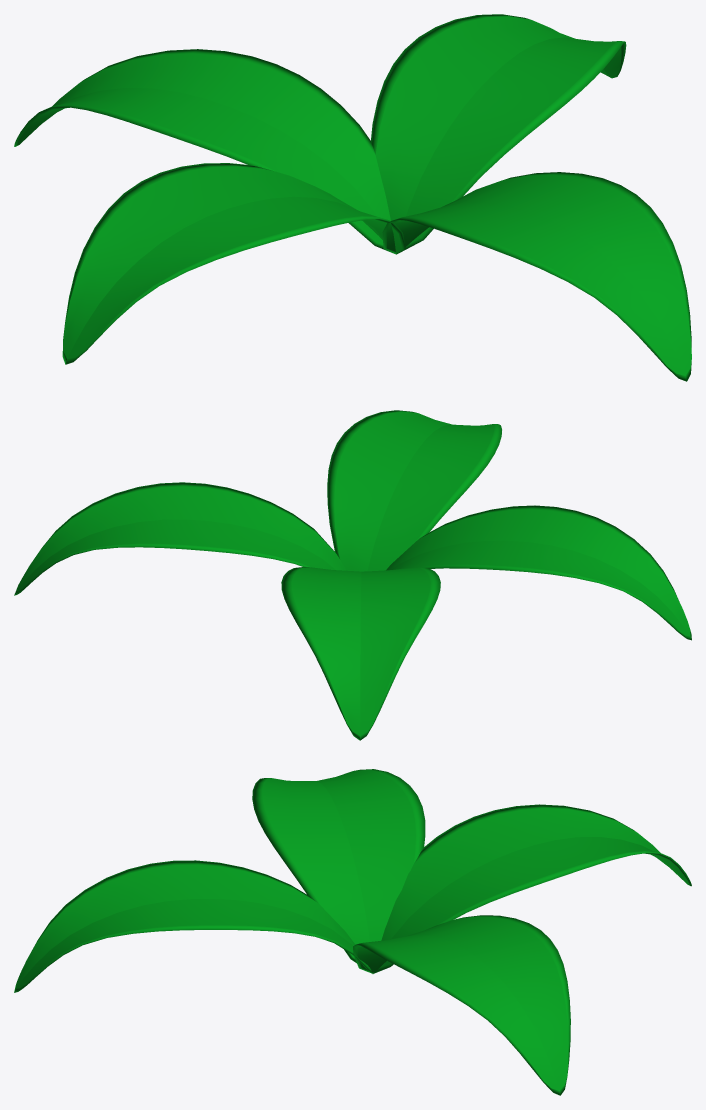
File: PalmGrass3.fbx
3 renders of one model, top to bottom at view 1: azimuth 30°, elevation 25°; view 2: azimuth 150°, elevation 25°; view 3: azimuth 270°, elevation 25°, orthographic. The views are drawn at different scales.
Visible parts, largest first — view 1: PalmGrass3; view 2: PalmGrass3; view 3: PalmGrass3.
Boxes of the visible parts, left/top/right/bottom form: PalmGrass3: left=14, top=14, right=691, bottom=381; PalmGrass3: left=14, top=410, right=691, bottom=740; PalmGrass3: left=14, top=769, right=691, bottom=1095.
Size of the model in its own units: 5.76 by 5.79 by 0.8894.
